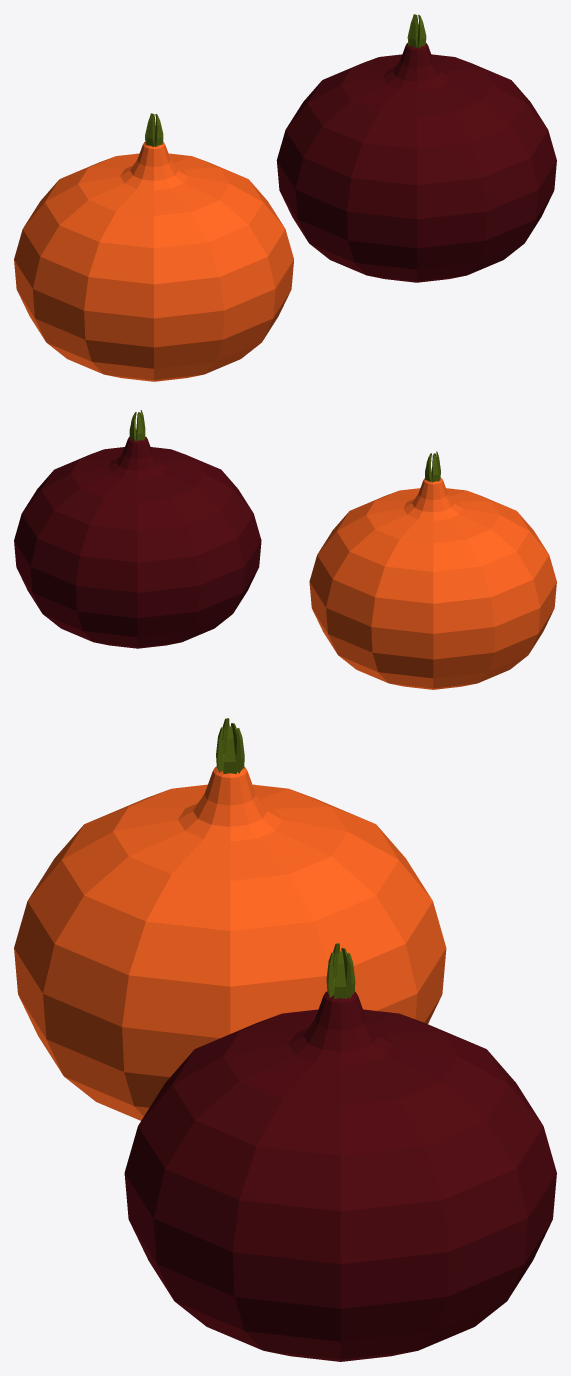
The model's file is onion.obj.
3 renders of one model, top to bottom at view 1: azimuth 30°, elevation 25°; view 2: azimuth 150°, elevation 25°; view 3: azimuth 270°, elevation 25°, orthographic. The views are drawn at different scales.
Bounding box in the file's own units: 4.55 × 2.05 × 2.56.
